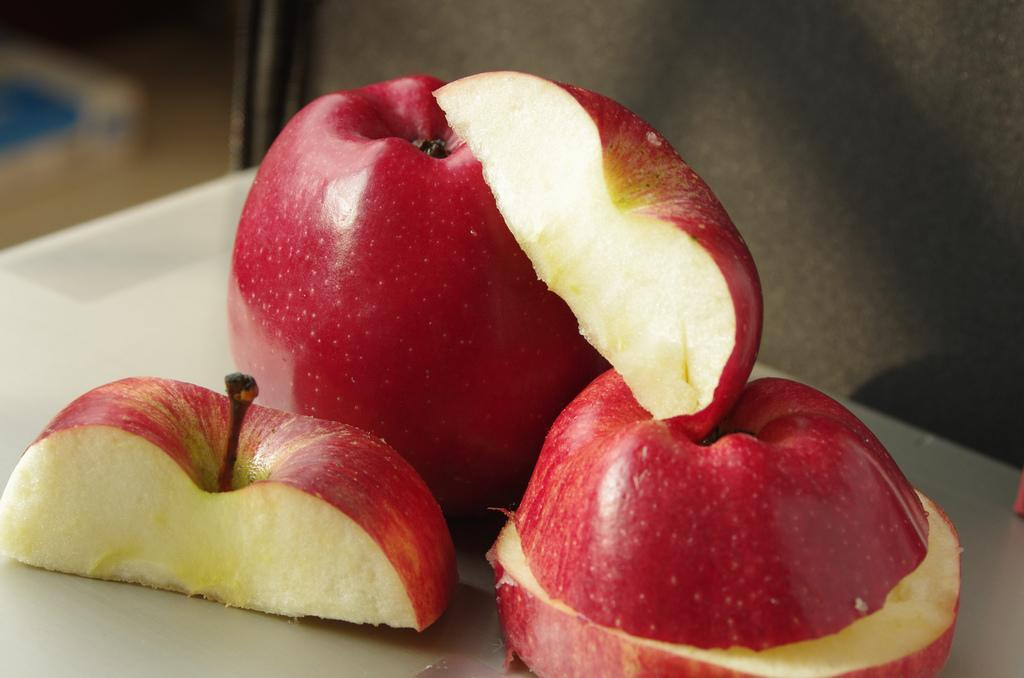apple: (217, 78, 595, 525), (498, 359, 964, 669)
